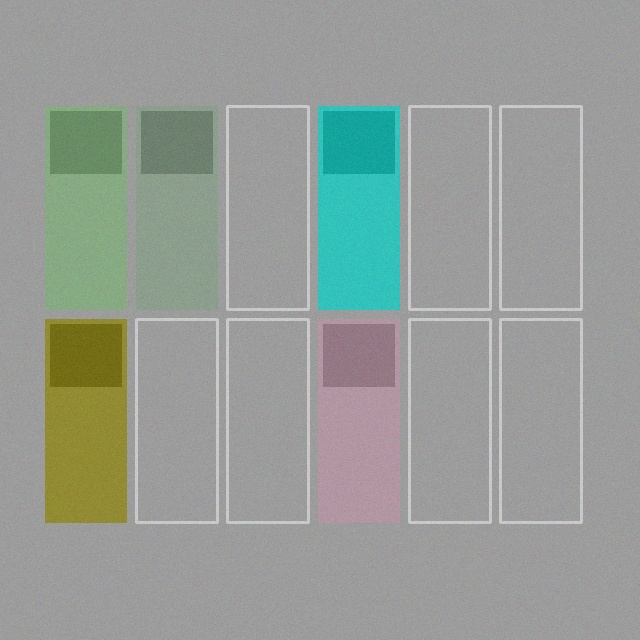space-empty: (227, 106, 308, 309), (409, 106, 490, 309), (500, 106, 581, 309), (136, 319, 217, 522), (227, 319, 308, 522), (409, 319, 490, 522), (500, 319, 581, 522)
space-occupied: (45, 106, 126, 309), (136, 106, 217, 309), (318, 106, 399, 309), (45, 319, 126, 522), (318, 319, 399, 522)
